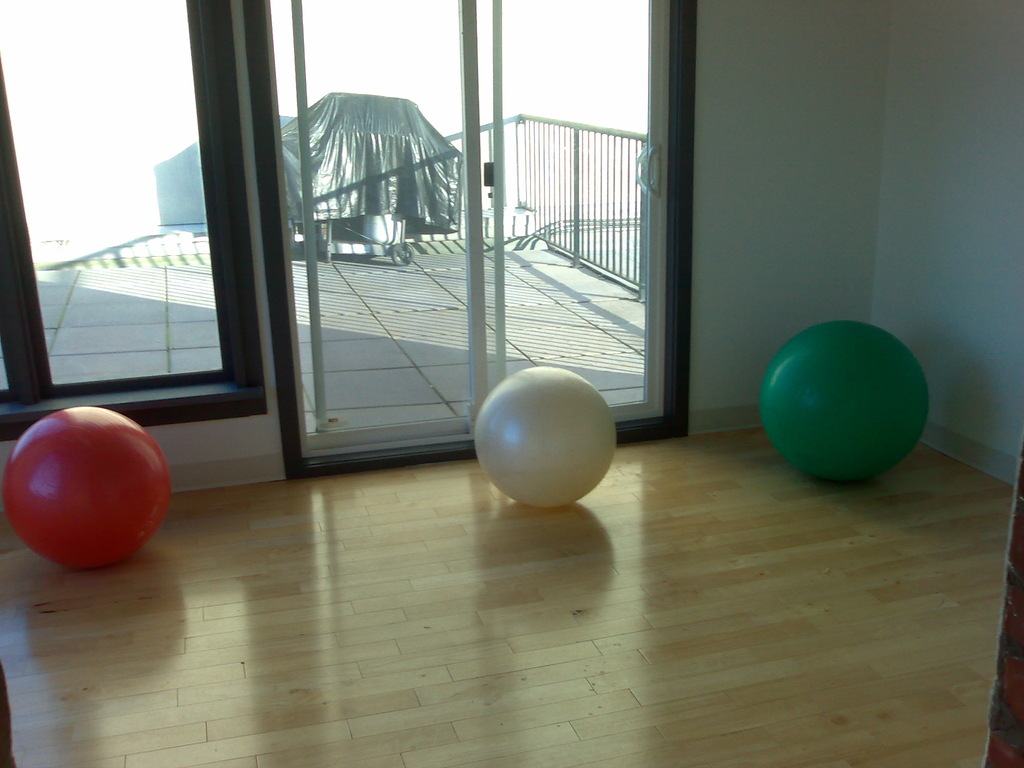Ball: (765, 318, 931, 486), (4, 408, 170, 572), (476, 367, 616, 507)
